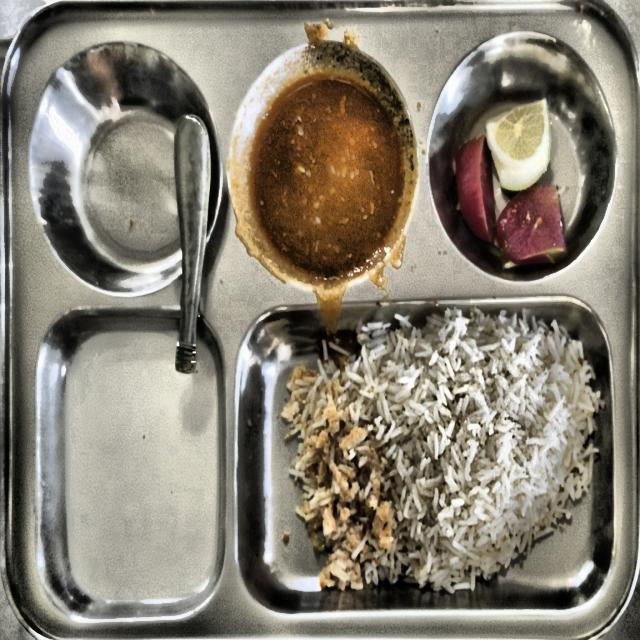Raita: (64, 318, 224, 603)
Rice: (282, 308, 603, 591)
